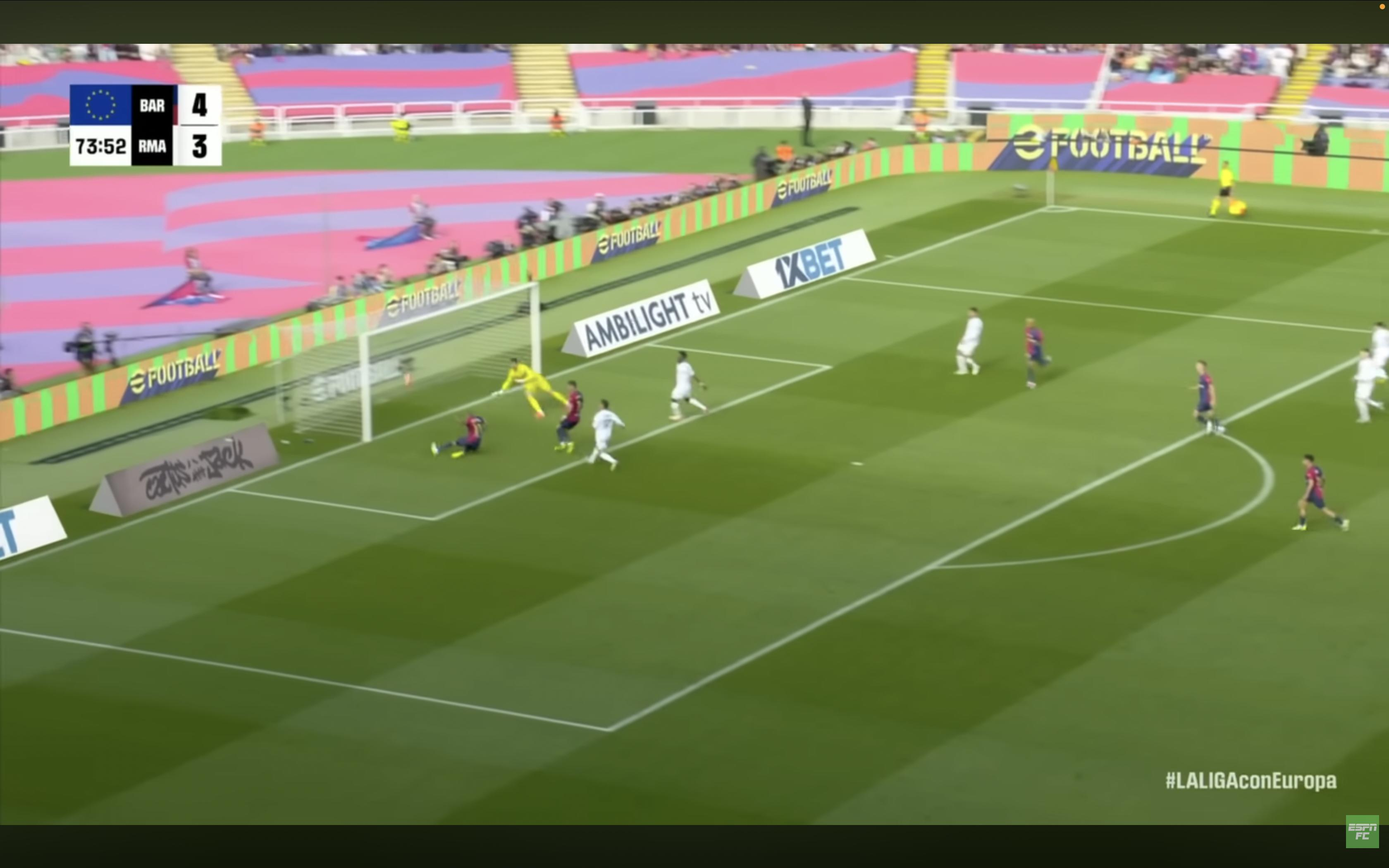ball: (402, 372, 414, 388)
goalkeeper: (494, 358, 568, 418)
player: (1293, 454, 1348, 530), (670, 351, 708, 421), (587, 400, 625, 470), (1353, 350, 1386, 423), (1192, 361, 1225, 434), (431, 415, 485, 458), (555, 381, 583, 453), (1025, 318, 1051, 389), (956, 308, 983, 375), (1370, 322, 1389, 367)
referee: (1210, 161, 1246, 216)
